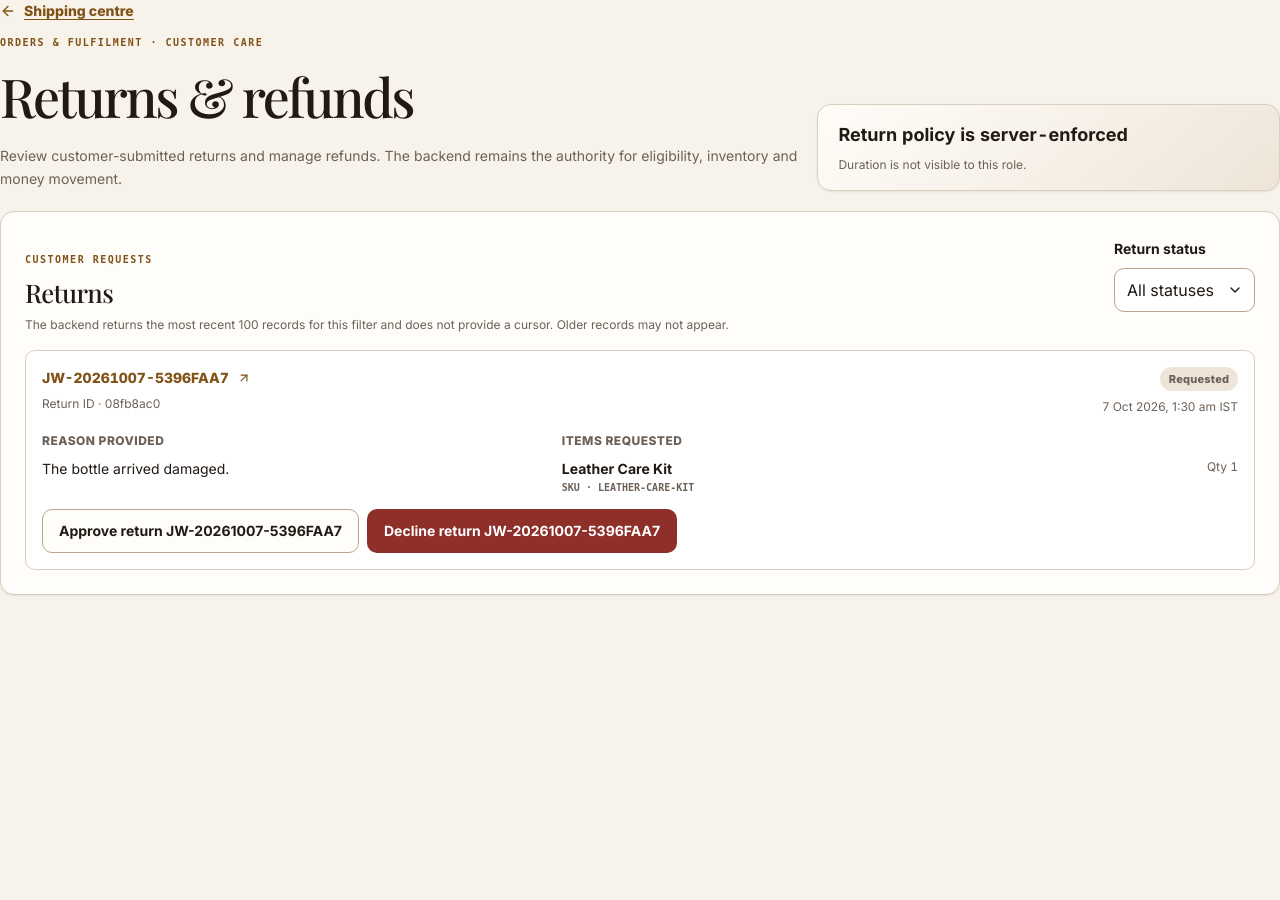
Scenario: returns and refunds centre › surfaces a decision refusal with its request id without retrying
The width and height of the screenshot is (1280, 900).
Click the button "Decline return JW-20261007-5396FAA7" at (522, 531), box [367, 509, 677, 553]
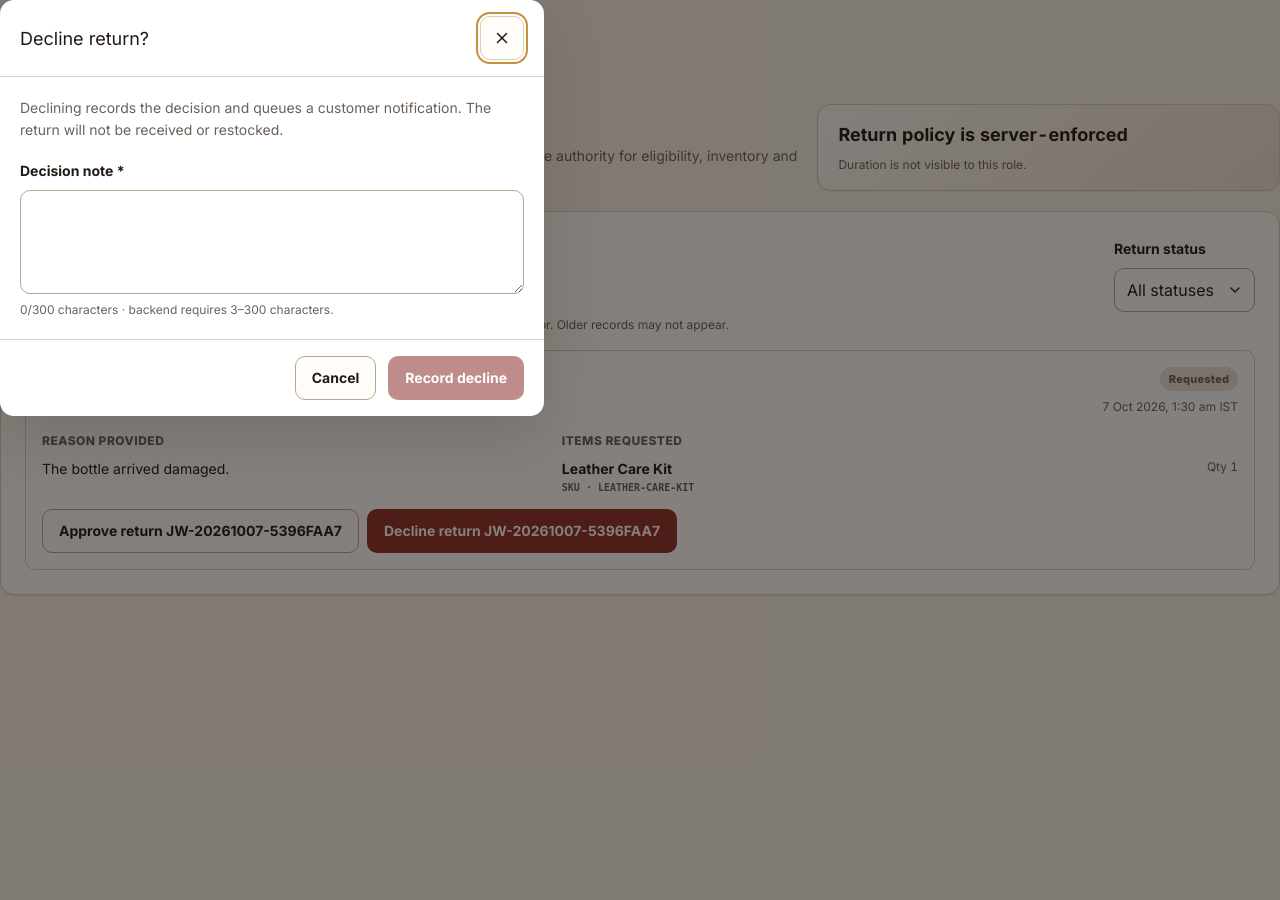
Type "The item does not match policy." into the text box labelled "Decision note *" at (272, 242), box [20, 190, 524, 294]
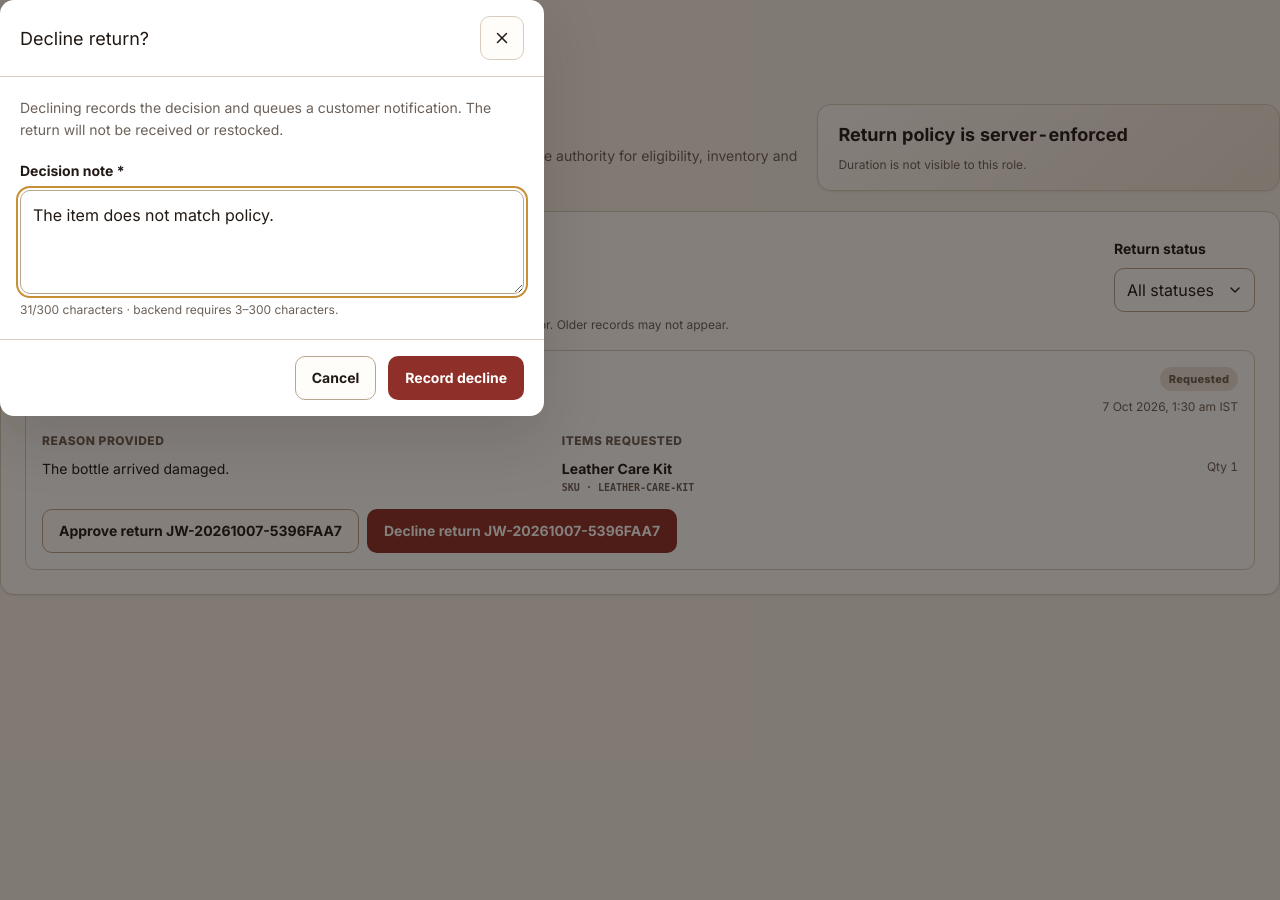
Click the button "Record decline" at (456, 378), box [388, 356, 524, 400]
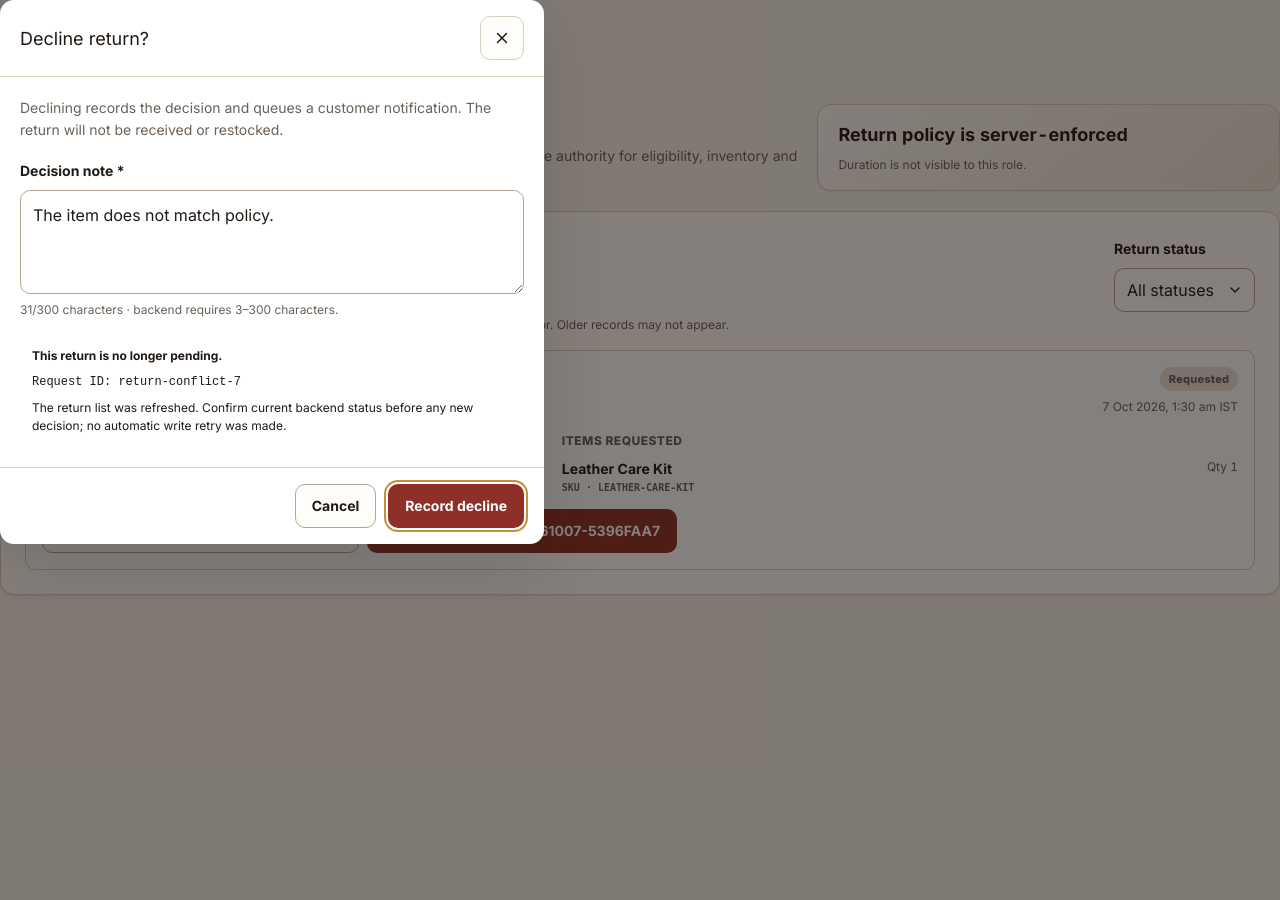
Expected: the text "Request ID: return-conflict-7" is shown, [32, 375, 241, 389]
